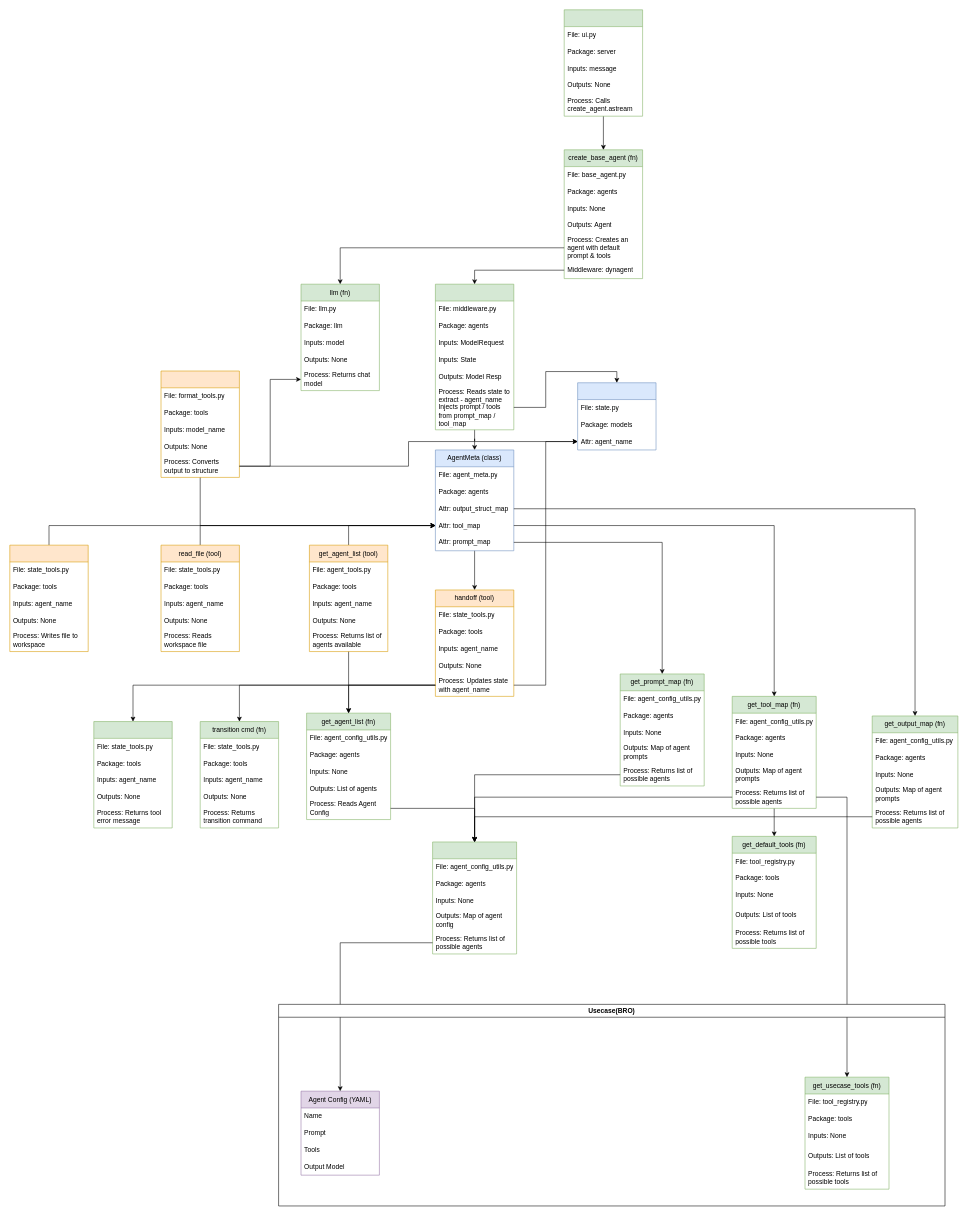
Some shapes in this 968 by 1216 pixel diagram are drawn without their labels. Here are the shapes that lost their labels. From the top down, the box of each, then its label:
(564, 9, 643, 116): respond (fn)
(435, 284, 514, 430): inject_agent (fn)
(160, 370, 239, 477): convert_format (tool)
(577, 382, 656, 450): Dynagent (class)
(9, 545, 88, 652): write_file (tool)
(93, 721, 172, 828): error cmd (fn)
(432, 841, 517, 954): agent_config_reader (fn)
